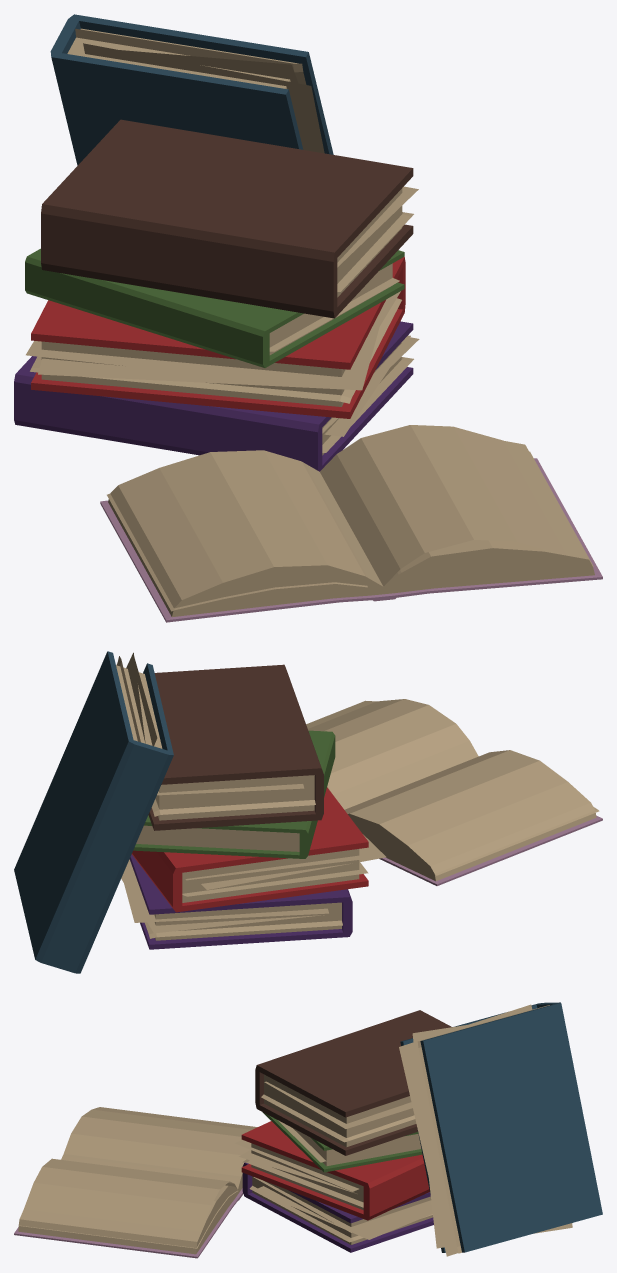
File: books.glb
3 renders of one model, top to bottom at view 1: azimuth 30°, elevation 25°; view 2: azimuth 150°, elevation 25°; view 3: azimuth 270°, elevation 25°, orthographic. The views are drawn at different scales.
Visible parts, largest first — view 1: object 1, Cube.003_2, Cube.004_1, Cube.001_4, Cube_5, Cube.002_3; view 2: object 1, Cube.004_1, Cube.003_2, Cube.001_4, Cube_5, Cube.002_3; view 3: Cube.004_1, object 1, Cube.003_2, Cube.001_4, Cube_5, Cube.002_3.
Boxes of the visible parts, x1,y1,x2,y2 form: object 1: (100, 425, 602, 622); Cube.003_2: (41, 119, 418, 318); Cube.004_1: (50, 14, 333, 165); Cube.001_4: (26, 256, 405, 418); Cube_5: (14, 321, 419, 471); Cube.002_3: (25, 248, 404, 367); object 1: (306, 699, 602, 885); Cube.004_1: (14, 651, 173, 973); Cube.003_2: (148, 664, 323, 830); Cube.001_4: (132, 786, 386, 912); Cube_5: (121, 854, 352, 949); Cube.002_3: (133, 730, 335, 858); Cube.004_1: (399, 1002, 602, 1256); object 1: (14, 1107, 257, 1258); Cube.003_2: (255, 1010, 451, 1155); Cube.001_4: (235, 1121, 429, 1220); Cube_5: (242, 1162, 433, 1252); Cube.002_3: (262, 1112, 422, 1172).
Bounding box in the file's own units: 0.8904 × 0.5444 × 1.44.
